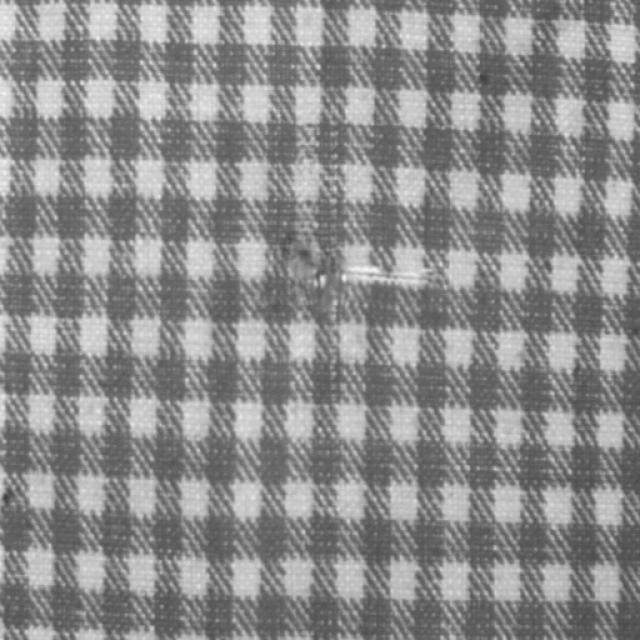Hole-Defect: (282, 241, 434, 299)
